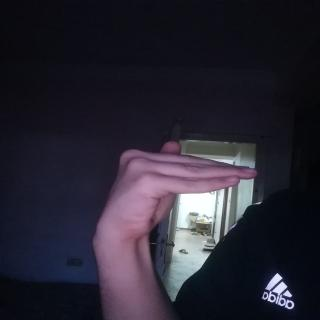KHAA: (93, 128, 264, 254)
